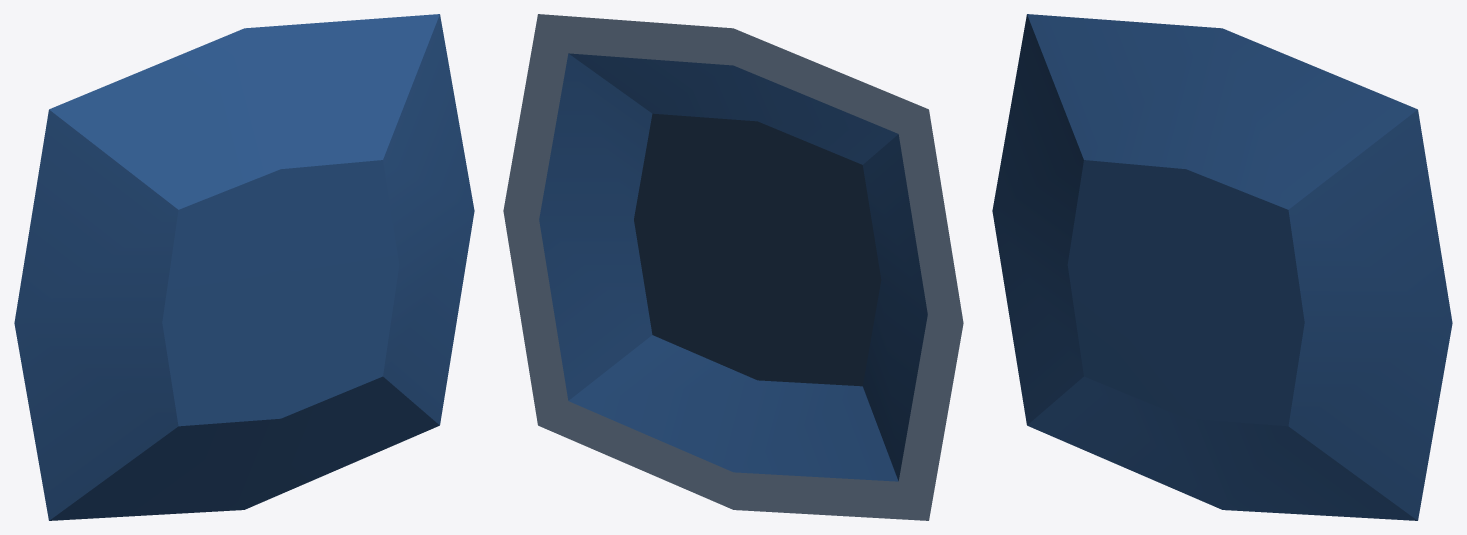
Rendered from Plate 01.FBX.
3 renders of one model, left to right at view 1: azimuth 30°, elevation 25°; view 2: azimuth 150°, elevation 25°; view 3: azimuth 330°, elevation 25°, orthographic.
Parts seen in each view (by area): view 1: Plate 01; view 2: Plate 01; view 3: Plate 01.
Boxes of the visible parts, box(x1,y1,x2,y2) form: Plate 01: box(14, 14, 474, 520); Plate 01: box(503, 14, 963, 520); Plate 01: box(992, 14, 1452, 520).
Bounding box in the file's own units: 49.8 × 49.81 × 6.82.
